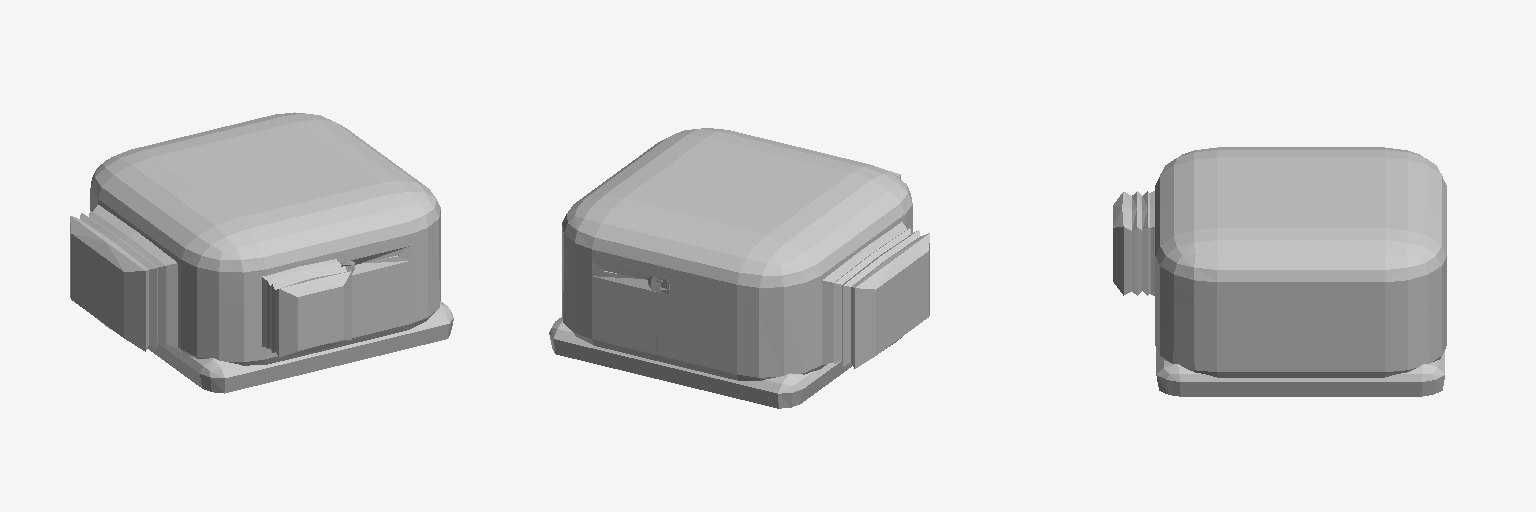
File: 1BC1MCS.obj
3 renders of one model, left to right at view 1: azimuth 30°, elevation 25°; view 2: azimuth 150°, elevation 25°; view 3: azimuth 270°, elevation 25°, orthographic.
Parts seen in each view (by area): view 1: Cube.013; view 2: Cube.013; view 3: Cube.013.
Boxes of the visible parts, x1=… form: Cube.013: x1=70, y1=112, x2=453, y2=393; Cube.013: x1=549, y1=128, x2=929, y2=408; Cube.013: x1=1113, y1=147, x2=1446, y2=396.
Bounding box in the file's own units: 10.25 × 4.89 × 10.15.